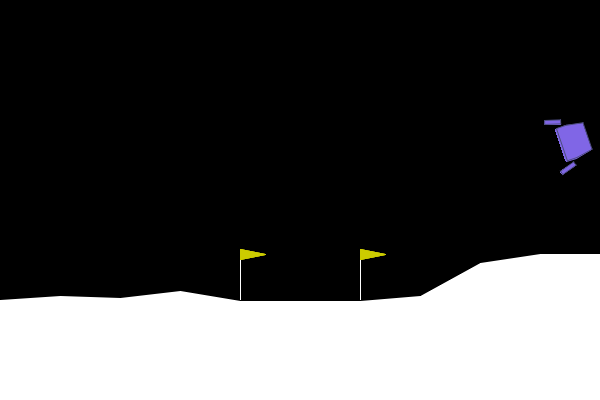lander: (541, 107, 599, 177)
